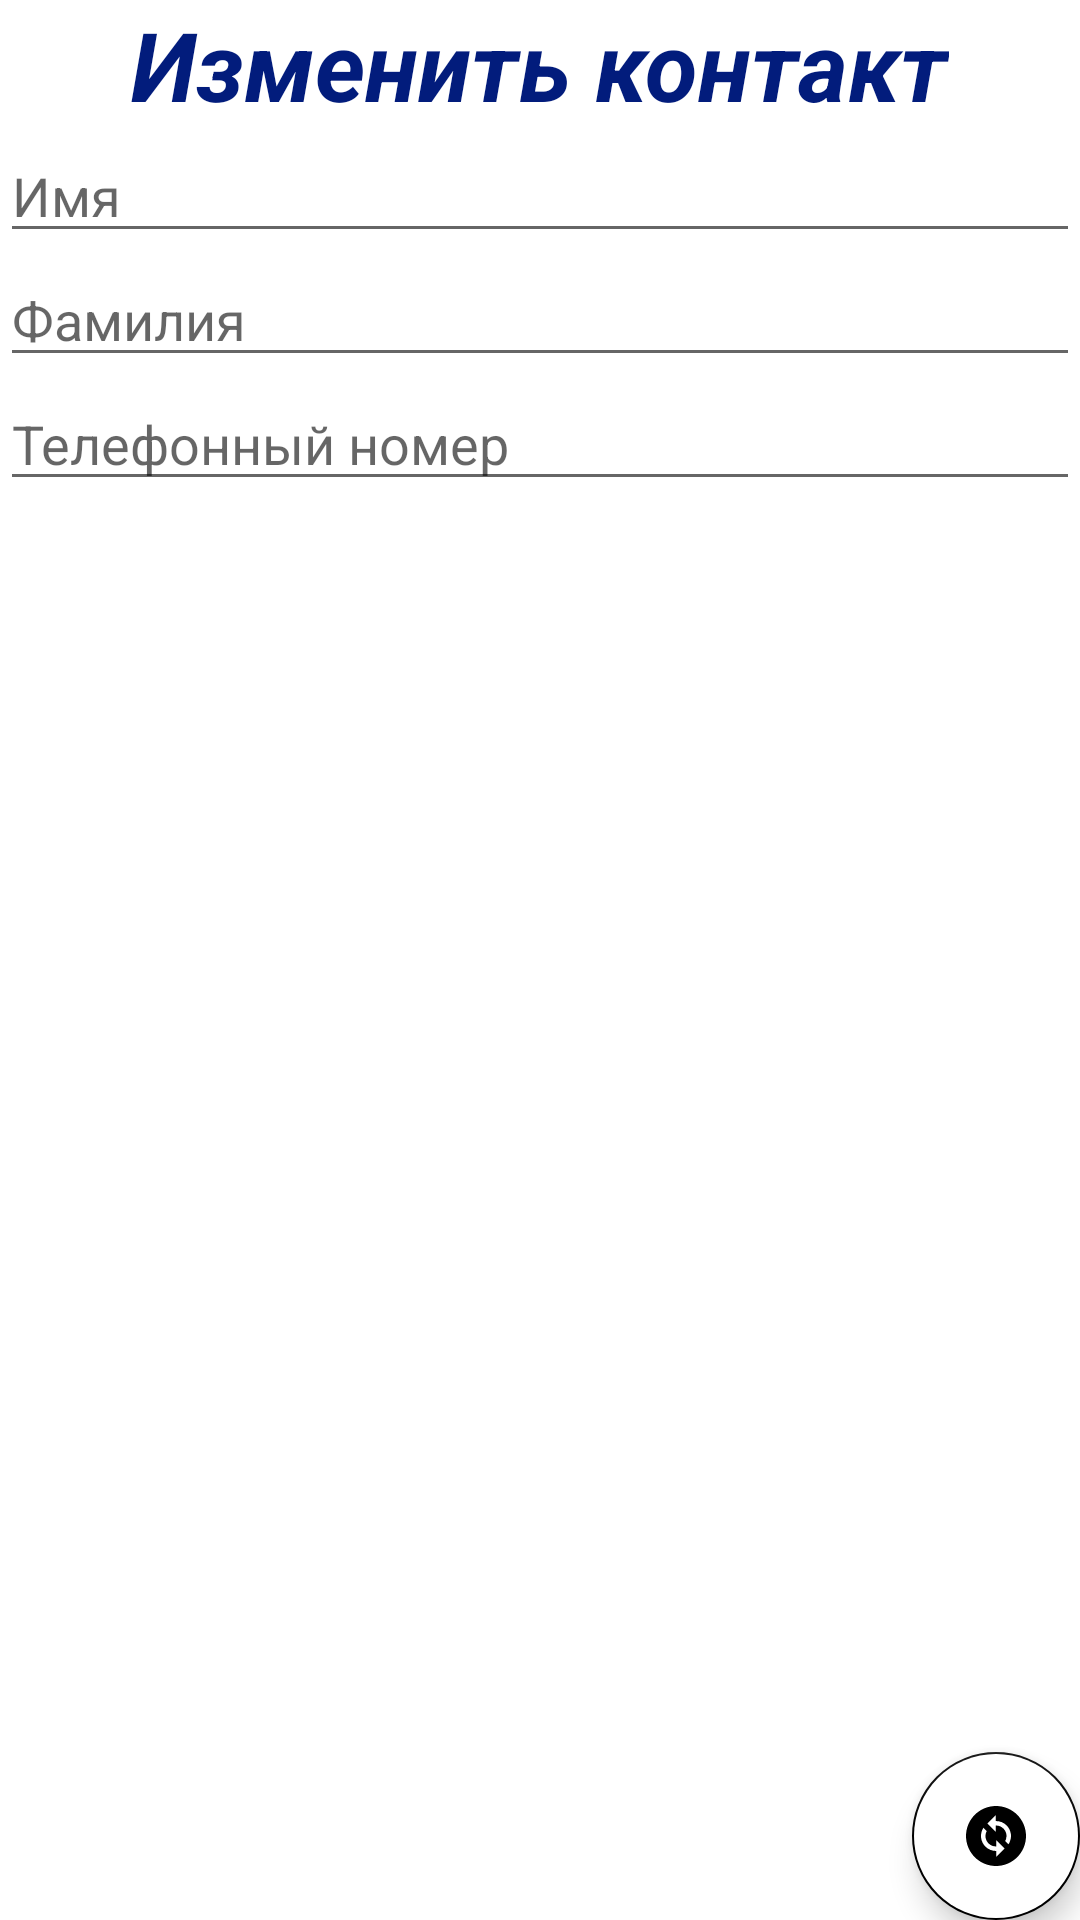

Icons on this 1080w x 1920h Android screen, each with the point to tap as [x,y]:
change: [996,1836]
